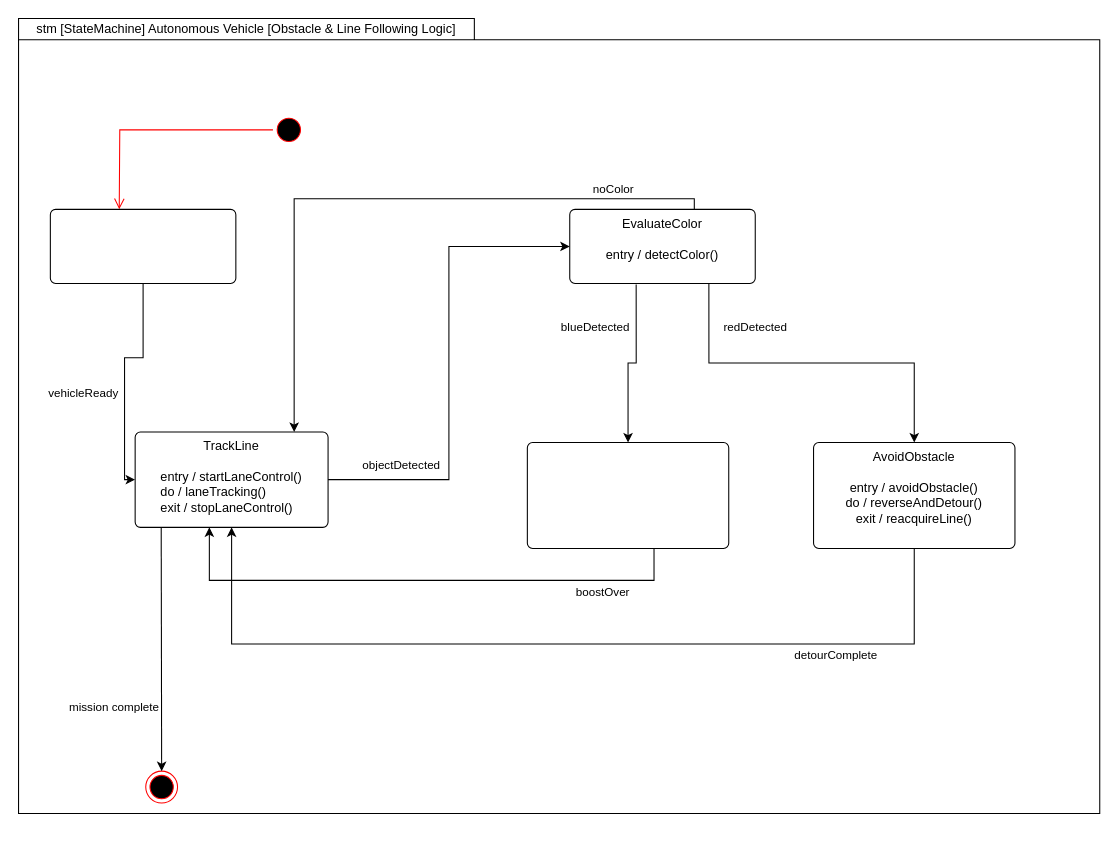
Some shapes in this 1118 by 841 pixel diagram are drawn without their labels. Each missing label, with the centre of its shape:
InitSystem entry / setup() do / selfTestLoop(): (x=142, y=246)
SpeedBoost entry / setMotorSpeed(120) do / delay(3s) exit / resumeSpeed(): (x=627, y=495)
